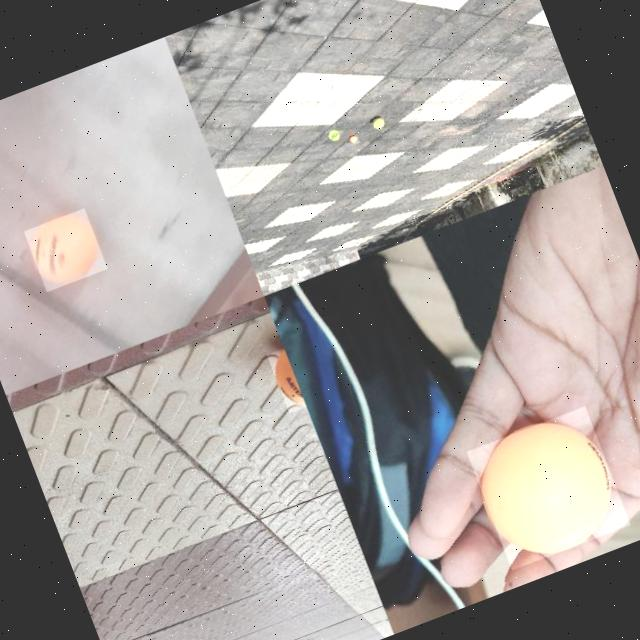ping-pong-ball: (466, 406, 631, 570), (23, 207, 108, 292), (266, 346, 308, 415), (350, 134, 360, 144)
